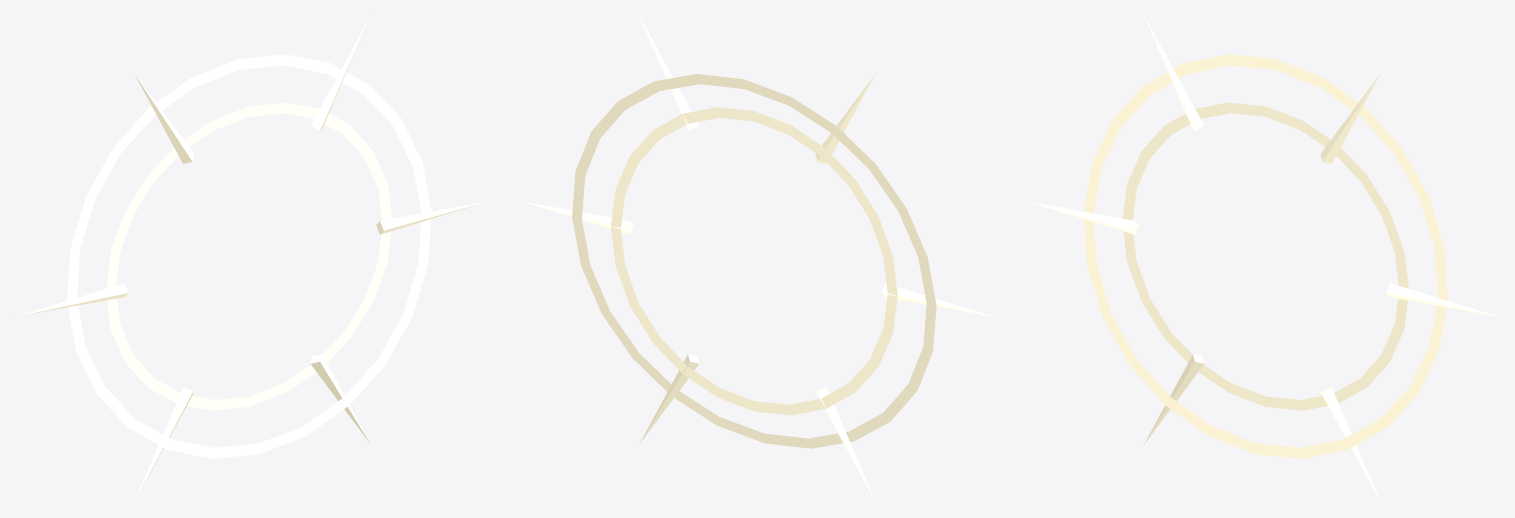
Rendered from YANG_COSMIC_SURGE.glb.
3 views of the same model, side by side, from view 1: azimuth 30°, elevation 25°; view 2: azimuth 150°, elevation 25°; view 3: azimuth 330°, elevation 25° (orthographic).
Visible parts, largest first — view 1: ANI08C_yang_1_definition_halo1, ANI08C_yang_1_definition_halo0, ANI08C_yang_1_construct_ray0, ANI08C_yang_1_construct_ray3, ANI08C_yang_1_construct_ray2, ANI08C_yang_1_construct_ray1, ANI08C_yang_1_construct_ray5, ANI08C_yang_1_construct_ray4; view 2: ANI08C_yang_1_definition_halo1, ANI08C_yang_1_definition_halo0, ANI08C_yang_1_construct_ray5, ANI08C_yang_1_construct_ray4, ANI08C_yang_1_construct_ray0, ANI08C_yang_1_construct_ray3, ANI08C_yang_1_construct_ray1, ANI08C_yang_1_construct_ray2; view 3: ANI08C_yang_1_definition_halo1, ANI08C_yang_1_definition_halo0, ANI08C_yang_1_construct_ray0, ANI08C_yang_1_construct_ray3, ANI08C_yang_1_construct_ray1, ANI08C_yang_1_construct_ray2, ANI08C_yang_1_construct_ray4, ANI08C_yang_1_construct_ray5.
Boxes of the visible parts, x1,y1,x2,y2 form: ANI08C_yang_1_definition_halo1: [67, 54, 431, 458]; ANI08C_yang_1_definition_halo0: [106, 102, 392, 410]; ANI08C_yang_1_construct_ray0: [376, 201, 489, 234]; ANI08C_yang_1_construct_ray3: [15, 283, 128, 316]; ANI08C_yang_1_construct_ray2: [134, 73, 194, 163]; ANI08C_yang_1_construct_ray1: [310, 15, 370, 130]; ANI08C_yang_1_construct_ray5: [310, 354, 370, 444]; ANI08C_yang_1_construct_ray4: [134, 387, 194, 502]; ANI08C_yang_1_definition_halo1: [572, 74, 936, 448]; ANI08C_yang_1_definition_halo0: [610, 107, 897, 415]; ANI08C_yang_1_construct_ray5: [639, 354, 699, 444]; ANI08C_yang_1_construct_ray4: [815, 387, 875, 502]; ANI08C_yang_1_construct_ray0: [520, 201, 633, 234]; ANI08C_yang_1_construct_ray3: [881, 283, 994, 316]; ANI08C_yang_1_construct_ray1: [639, 15, 699, 130]; ANI08C_yang_1_construct_ray2: [815, 73, 875, 163]; ANI08C_yang_1_definition_halo1: [1083, 54, 1447, 458]; ANI08C_yang_1_definition_halo0: [1122, 102, 1408, 410]; ANI08C_yang_1_construct_ray0: [1386, 283, 1499, 316]; ANI08C_yang_1_construct_ray3: [1025, 201, 1138, 234]; ANI08C_yang_1_construct_ray1: [1320, 73, 1380, 163]; ANI08C_yang_1_construct_ray2: [1144, 15, 1204, 130]; ANI08C_yang_1_construct_ray4: [1144, 354, 1204, 444]; ANI08C_yang_1_construct_ray5: [1320, 387, 1380, 502].
Bounding box in the file's own units: 0.86 × 0.7448 × 0.0657.
